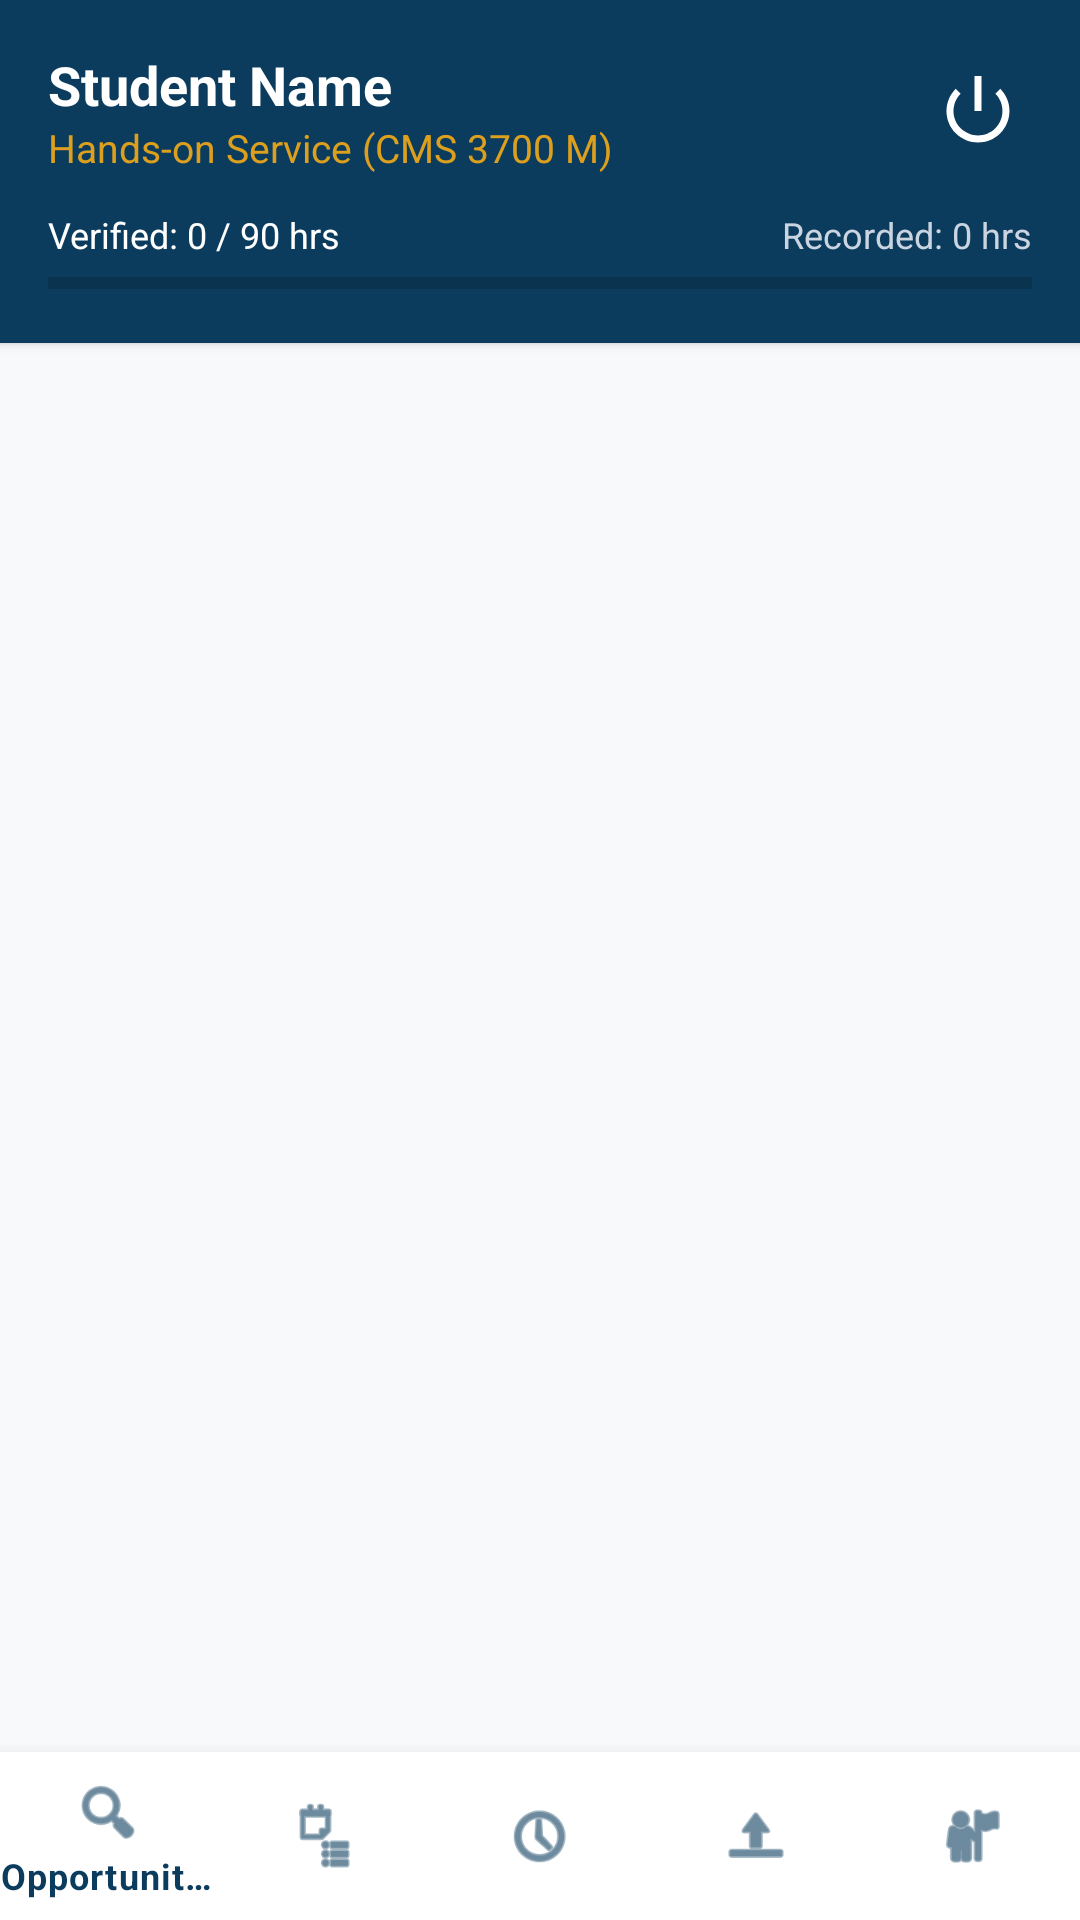

Screen size 1080 × 1920. Icon name, then its center in pixels as (x=x, y=y):
Sign out: (x=978, y=109)
